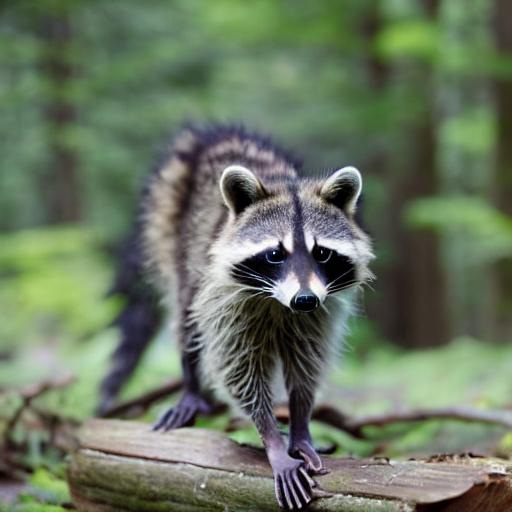raccoon: (107, 113, 389, 376)
